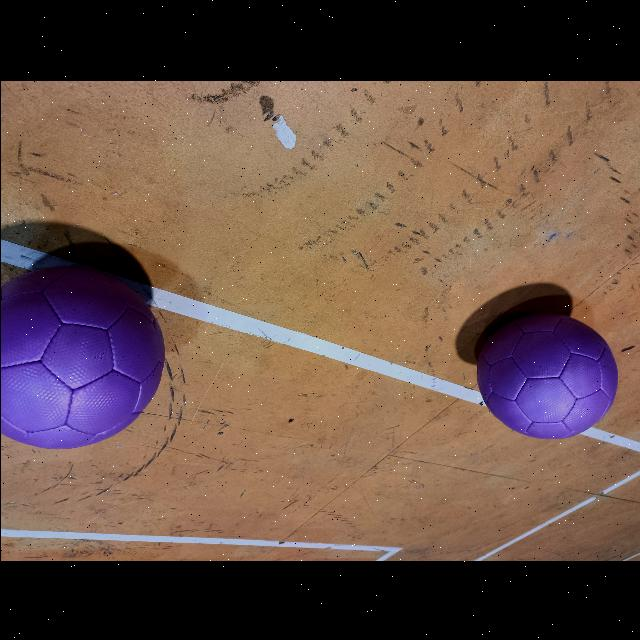P: (0, 266, 164, 448), (476, 314, 616, 438)
